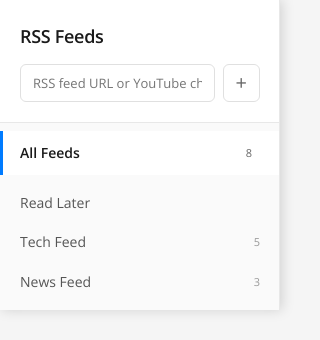
Test: FeedList › should cancel rename on Escape key
Double-click the text "Tech Feed" at point(53, 242), box [20,232,86,251]
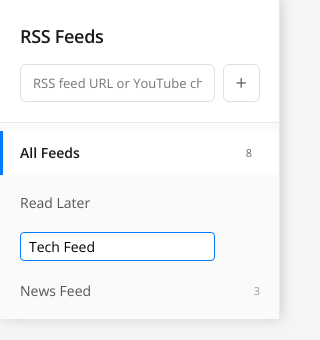
Replace the text in the field showing "Tech Feed" with "Cancelled" at point(118, 247), box [20,232,215,261]
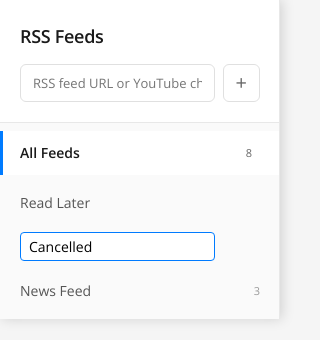
Press Escape
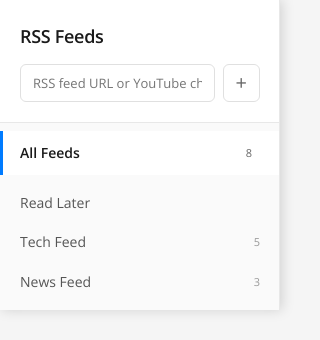
Now the text "Tech Feed" is shown, box [20,232,86,251]
